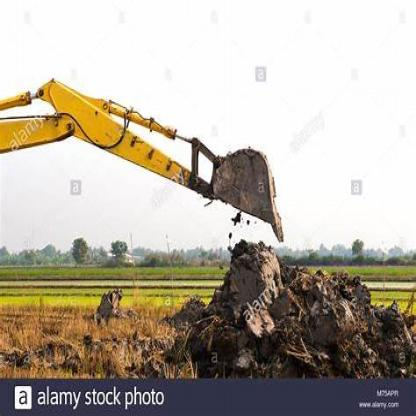excavator: (1, 66, 289, 245)
